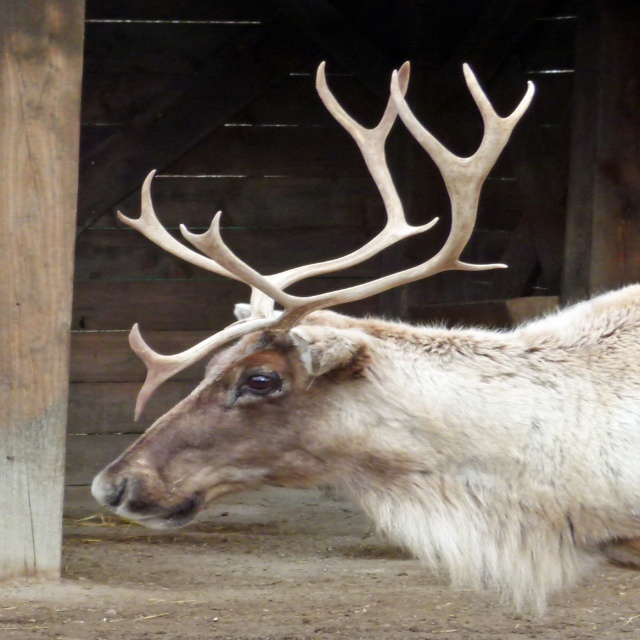Deer: (92, 61, 640, 620)
